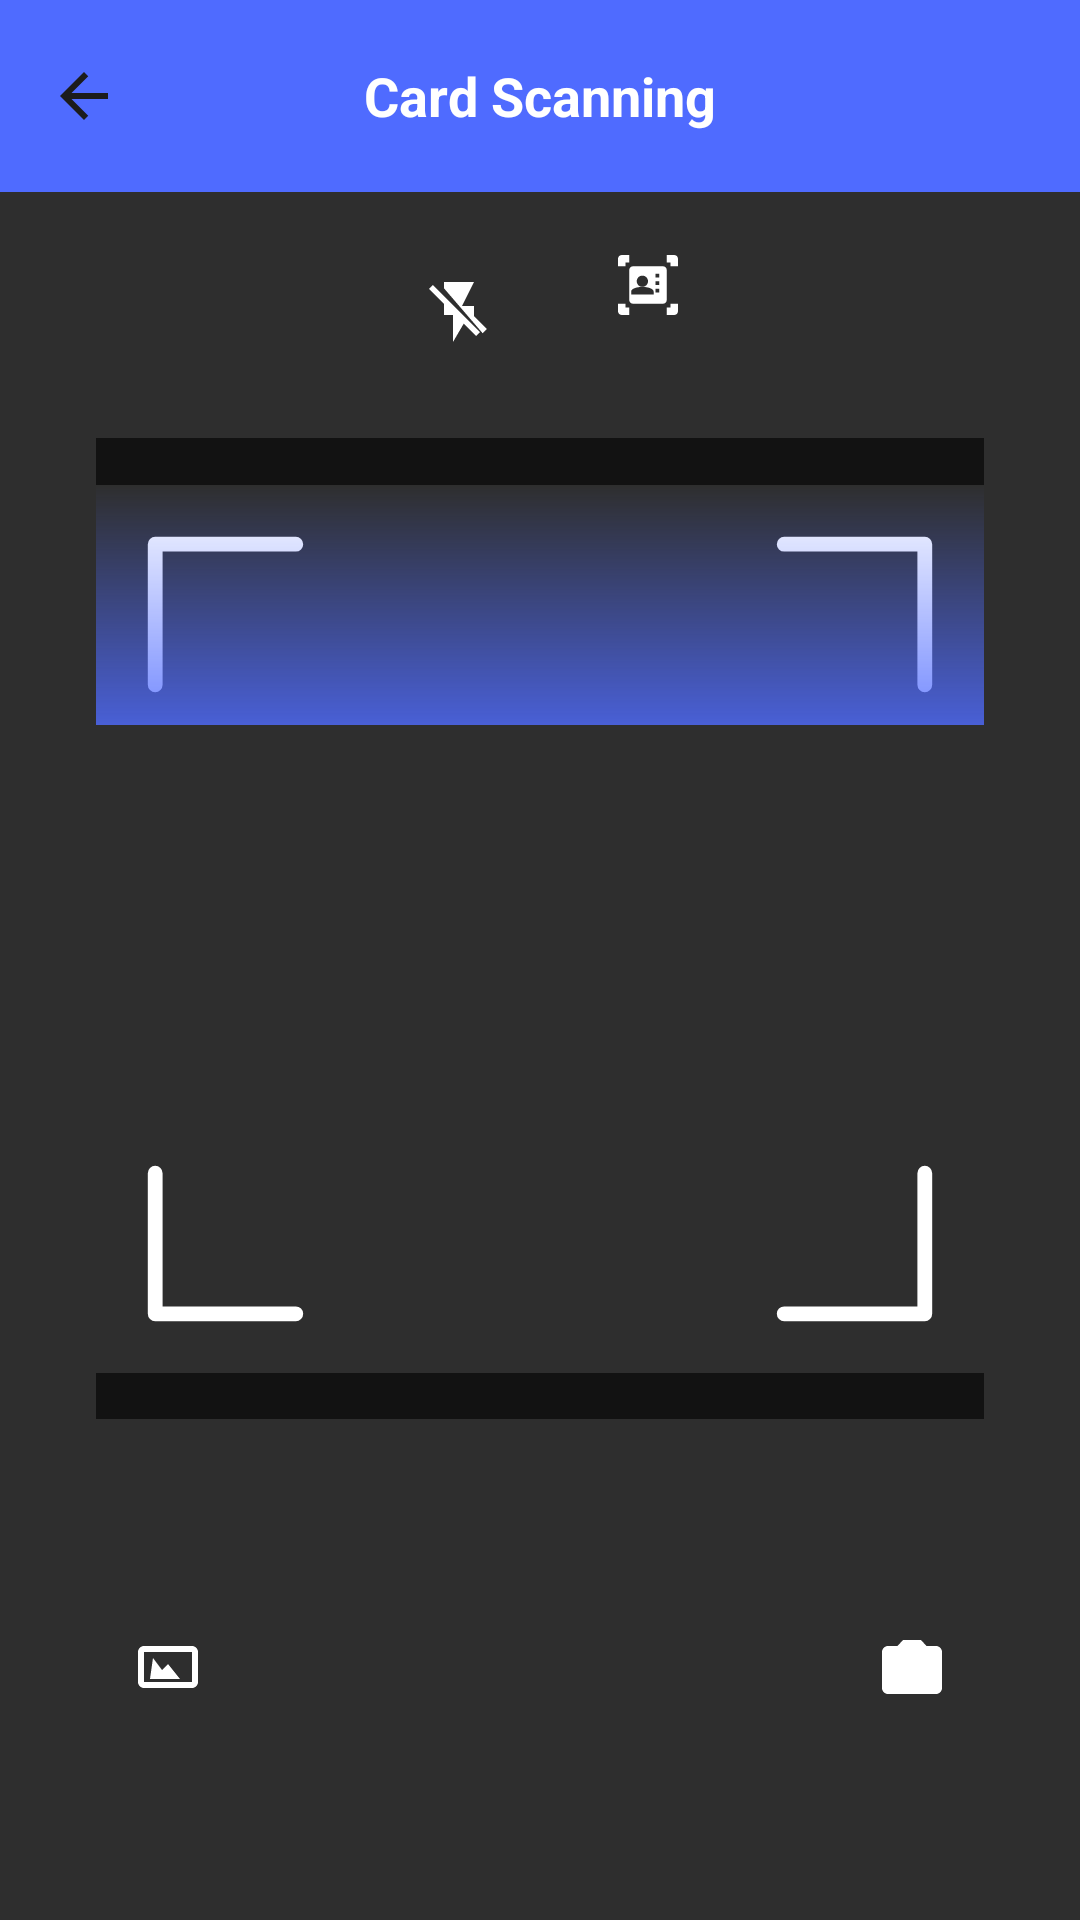

Named icons in this screenshot (1080x1920) and their bounding boxes, (x1, y1, x2, y2):
flash off: (429, 282, 487, 342)
gallery: (138, 1646, 198, 1688)
scan id card: (618, 255, 678, 315)
